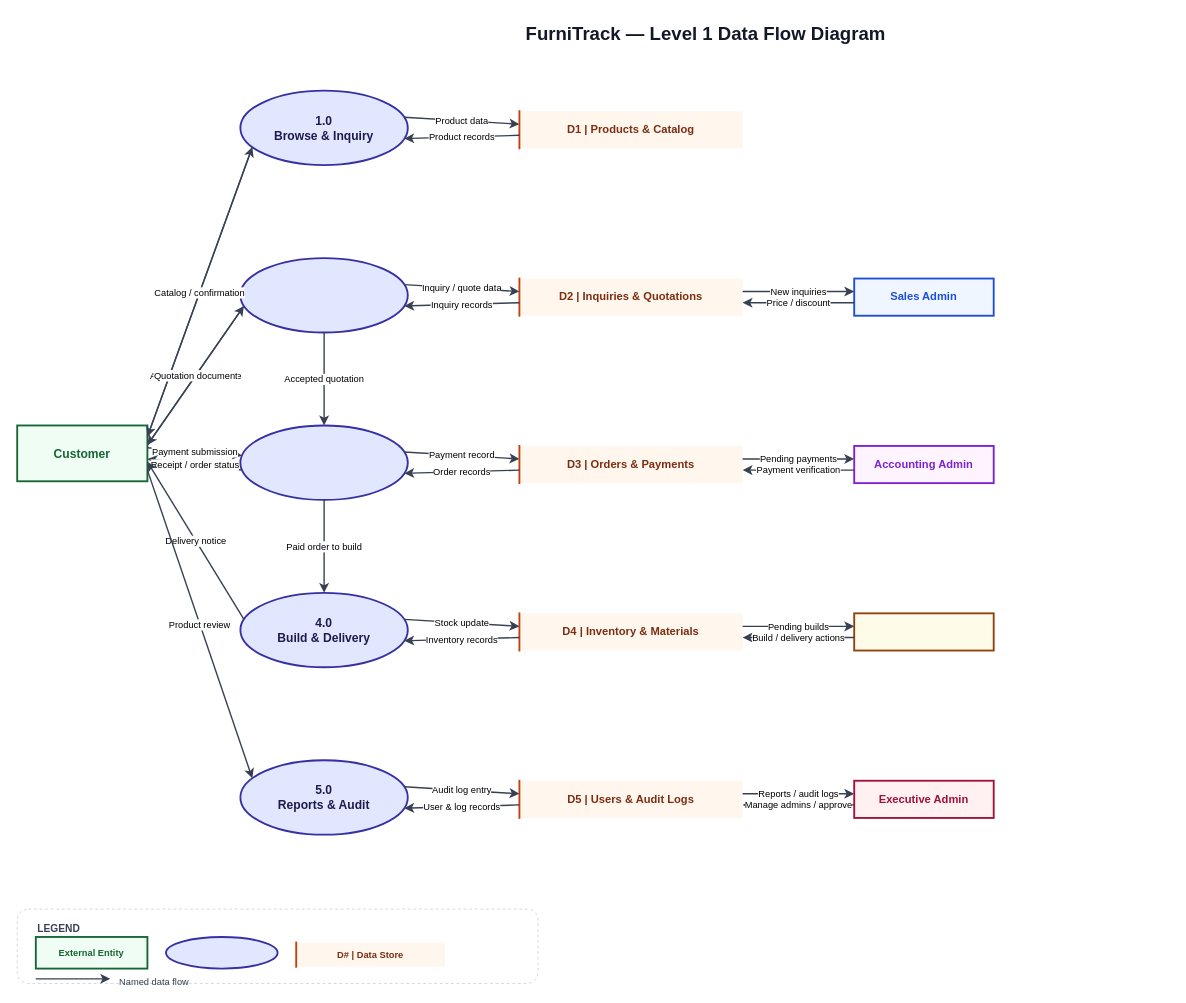
This 1186x1003 diagram has some shape labels left out. Each missing label, with the centre of its shape:
"2.0 Quotation" belongs at point (323, 295).
"3.0 Order & Payment" belongs at point (323, 462).
"N.0 Process" belongs at point (221, 952).
"Operations Admin" belongs at point (923, 631).
